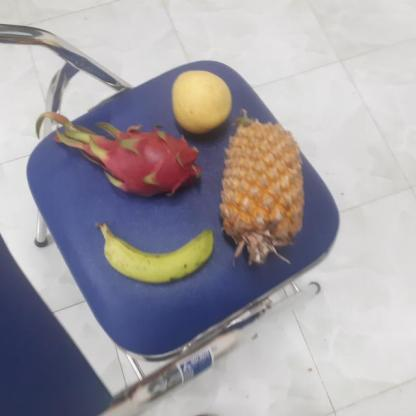banana: (96, 224, 213, 284)
pear: (168, 71, 235, 134)
pineapple: (217, 117, 306, 206)
pitaya: (88, 124, 200, 198)
